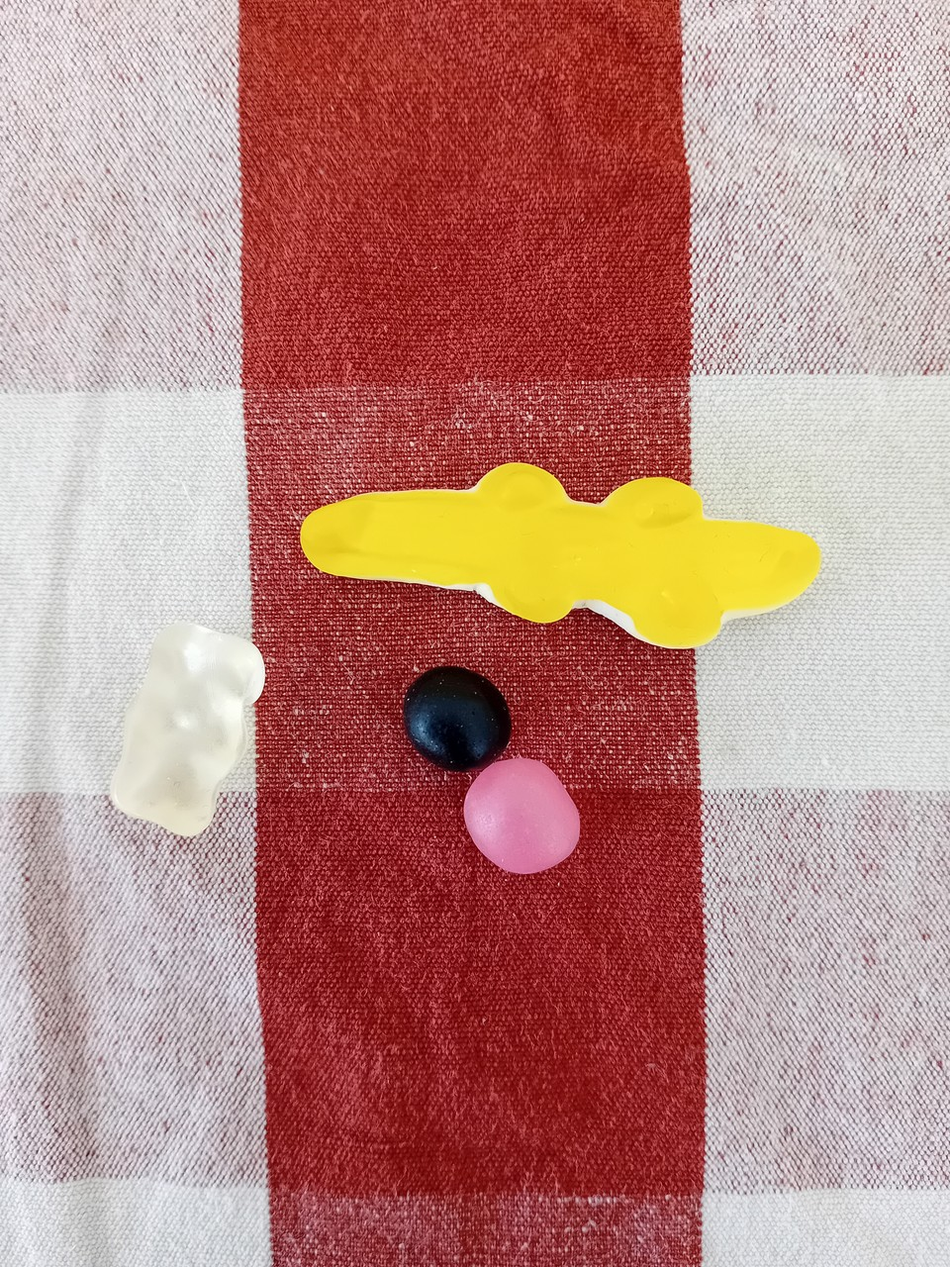crocodile_jaune: (279, 454, 840, 660)
dragibus_noir: (392, 660, 516, 779)
dragibus_rose: (459, 752, 588, 880)
ourson_blanc: (97, 617, 273, 839)
